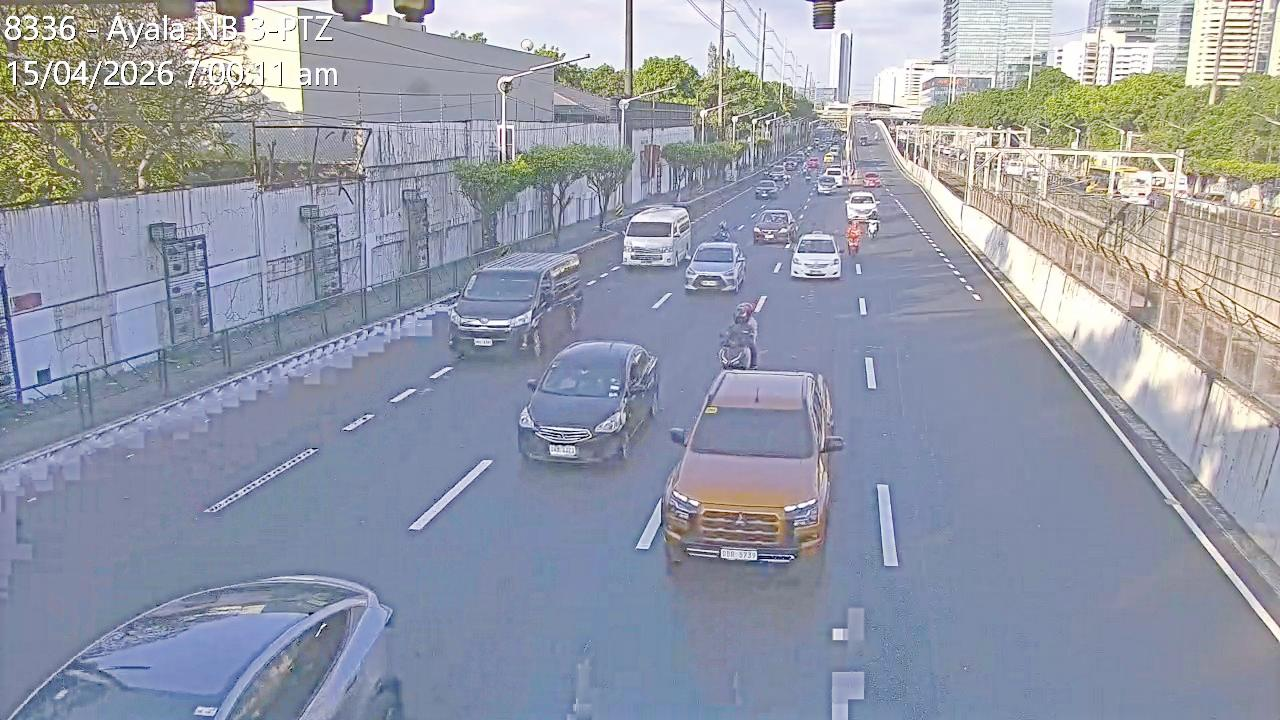Car: (4, 575, 402, 720), (659, 368, 841, 571), (515, 339, 655, 467), (449, 249, 585, 360), (620, 204, 691, 270), (684, 240, 747, 294), (789, 231, 843, 280), (750, 208, 798, 246), (845, 191, 879, 222), (754, 178, 779, 200), (815, 174, 841, 195), (822, 165, 845, 187), (863, 171, 881, 188)
Motor: (714, 304, 761, 377), (713, 220, 733, 247), (845, 225, 862, 256), (863, 213, 881, 239)
Not Accident: (664, 305, 834, 573), (690, 220, 746, 290), (845, 210, 879, 260), (812, 165, 844, 201)
